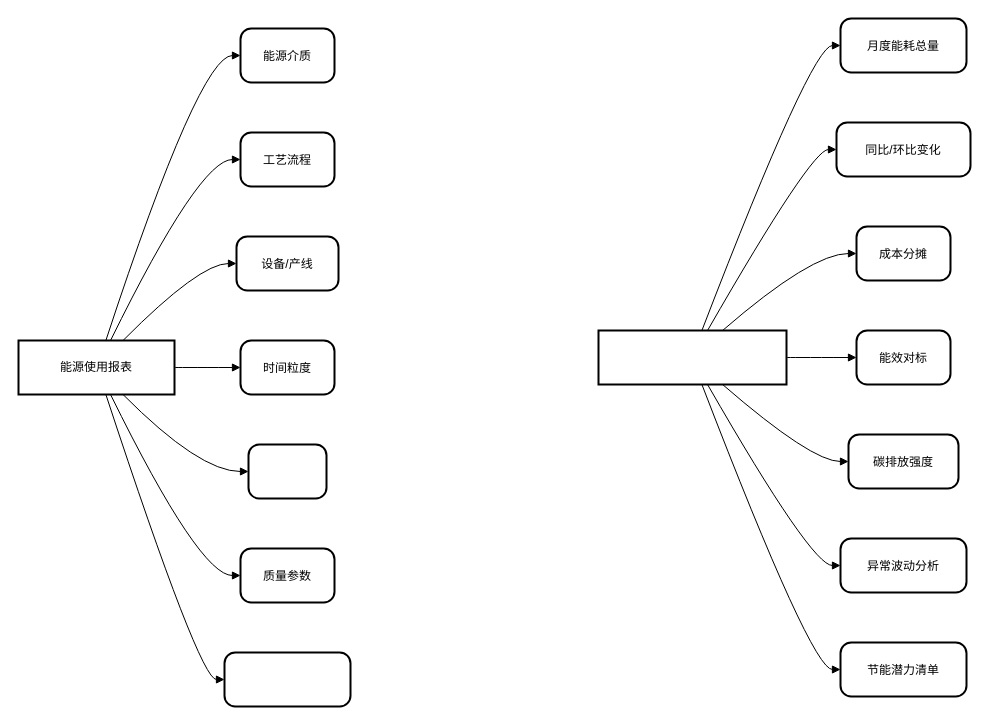
Some shapes in this 988 by 724 pixel diagram are drawn without their labels. Each missing label, with the box of its shape:
异常事件日志: (223, 651, 351, 707)
能源消耗分析月报: (597, 329, 787, 385)
计量点: (247, 443, 327, 499)
